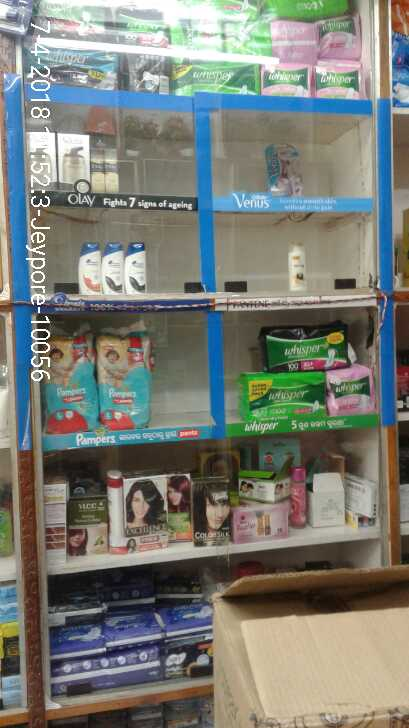venus: (266, 144, 305, 195)
